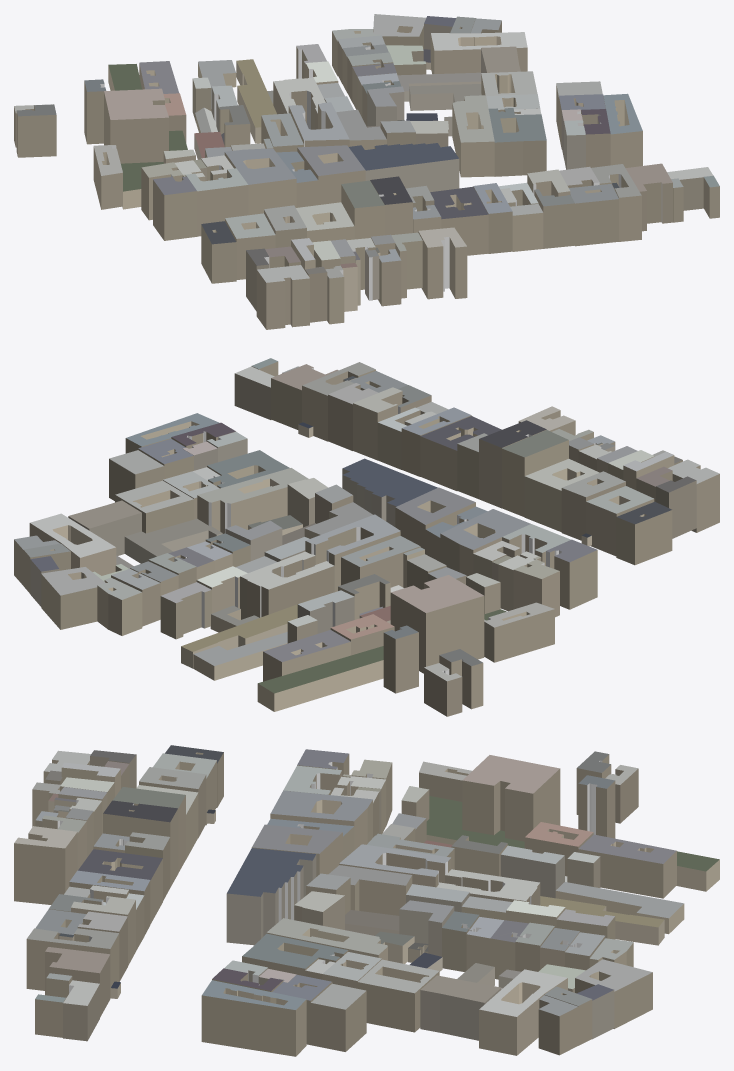
The picture shows the model from 3 angles, top to bottom: view 1: azimuth 30°, elevation 25°; view 2: azimuth 150°, elevation 25°; view 3: azimuth 270°, elevation 25°; orthographic projection. The views are drawn at different scales.
Parts seen in each view (by area): view 1: tuile; view 2: tuile; view 3: tuile.
Boxes of the visible parts, <box> form: tuile: <box>14,14,719,329</box>; tuile: <box>14,358,719,716</box>; tuile: <box>14,745,719,1056</box>.
Size of the model in its own units: 267 by 40.59 by 303.
